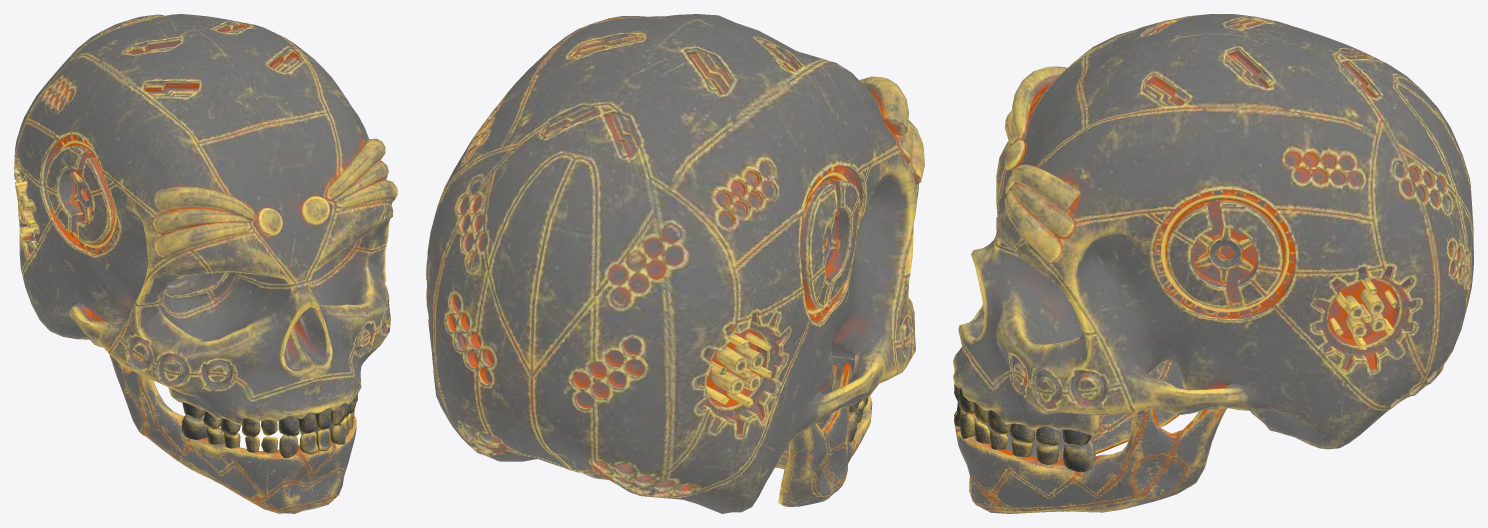
The model's file is skull_day_of_the_dead-transformed.glb.
The picture shows the model from 3 angles, left to right: view 1: azimuth 30°, elevation 25°; view 2: azimuth 150°, elevation 25°; view 3: azimuth 270°, elevation 25°; orthographic projection. The views are drawn at different scales.
Visible parts, largest first — view 1: g; view 2: g; view 3: g.
Part boxes in pixels (<box>): g: <box>14,14,397,513</box>; g: <box>426,14,924,513</box>; g: <box>953,14,1473,513</box>.
Bounding box in the file's own units: 1.4 × 1.98 × 2.
3 materials, 3 textured.
